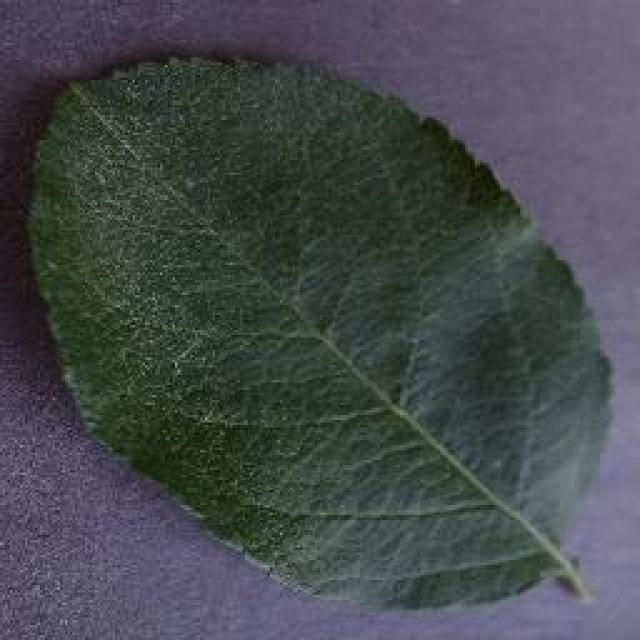apple healthy: (20, 48, 615, 612)
